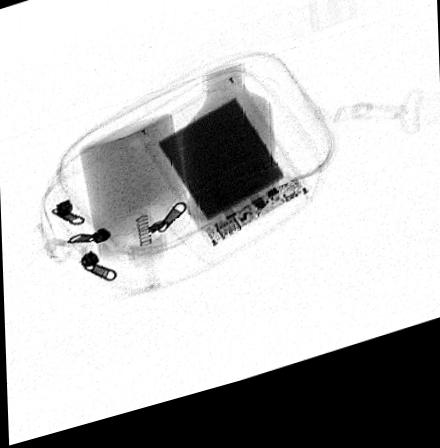Powerbank: (135, 86, 311, 261)
